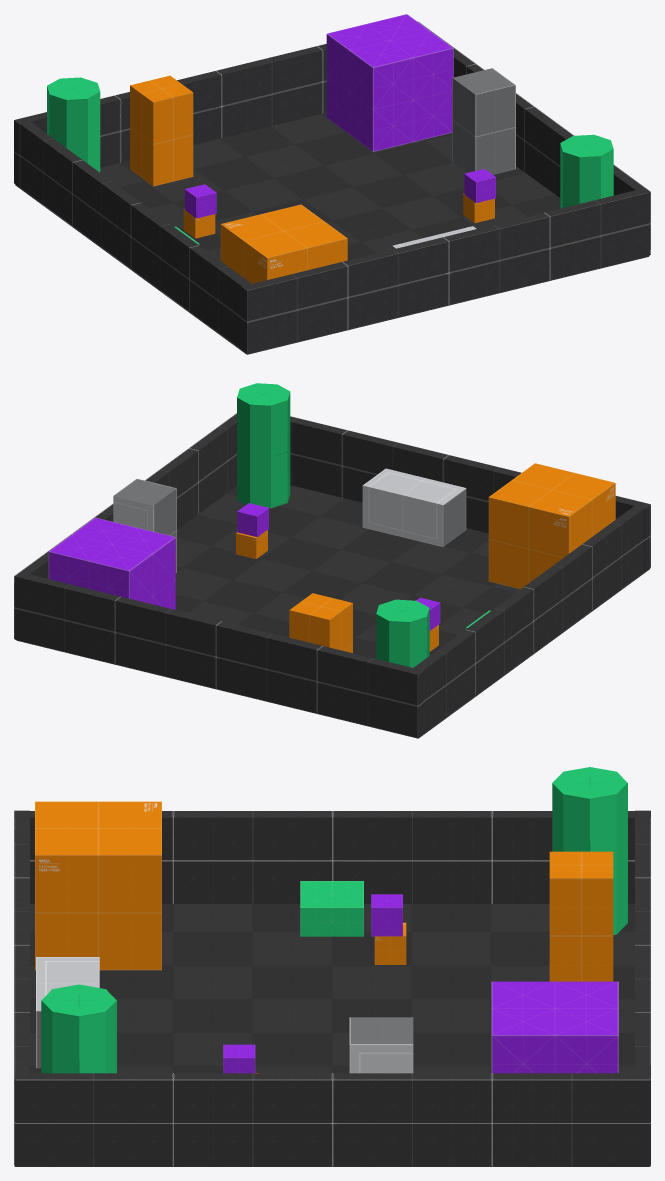
Rendered from Level.glb.
3 views of the same model, one above another, from view 1: azimuth 30°, elevation 25°; view 2: azimuth 150°, elevation 25°; view 3: azimuth 270°, elevation 25° (orthographic). The views are drawn at different scales.
Parts seen in each view (by area): view 1: Walls, Props, Floor; view 2: Walls, Props, Floor; view 3: Walls, Props, Floor.
Part boxes in pixels (x1,y1,x2,y2): Walls: (14, 21, 650, 353); Props: (47, 14, 613, 283); Floor: (15, 112, 648, 354); Walls: (14, 413, 650, 737); Props: (48, 383, 615, 667); Floor: (16, 485, 650, 738); Walls: (14, 810, 650, 1166); Props: (35, 767, 627, 1073); Floor: (14, 904, 649, 1166).
Size of the model in its own units: 40.16 by 9.78 by 40.11.
Materials: 7 (7 with a texture image).
